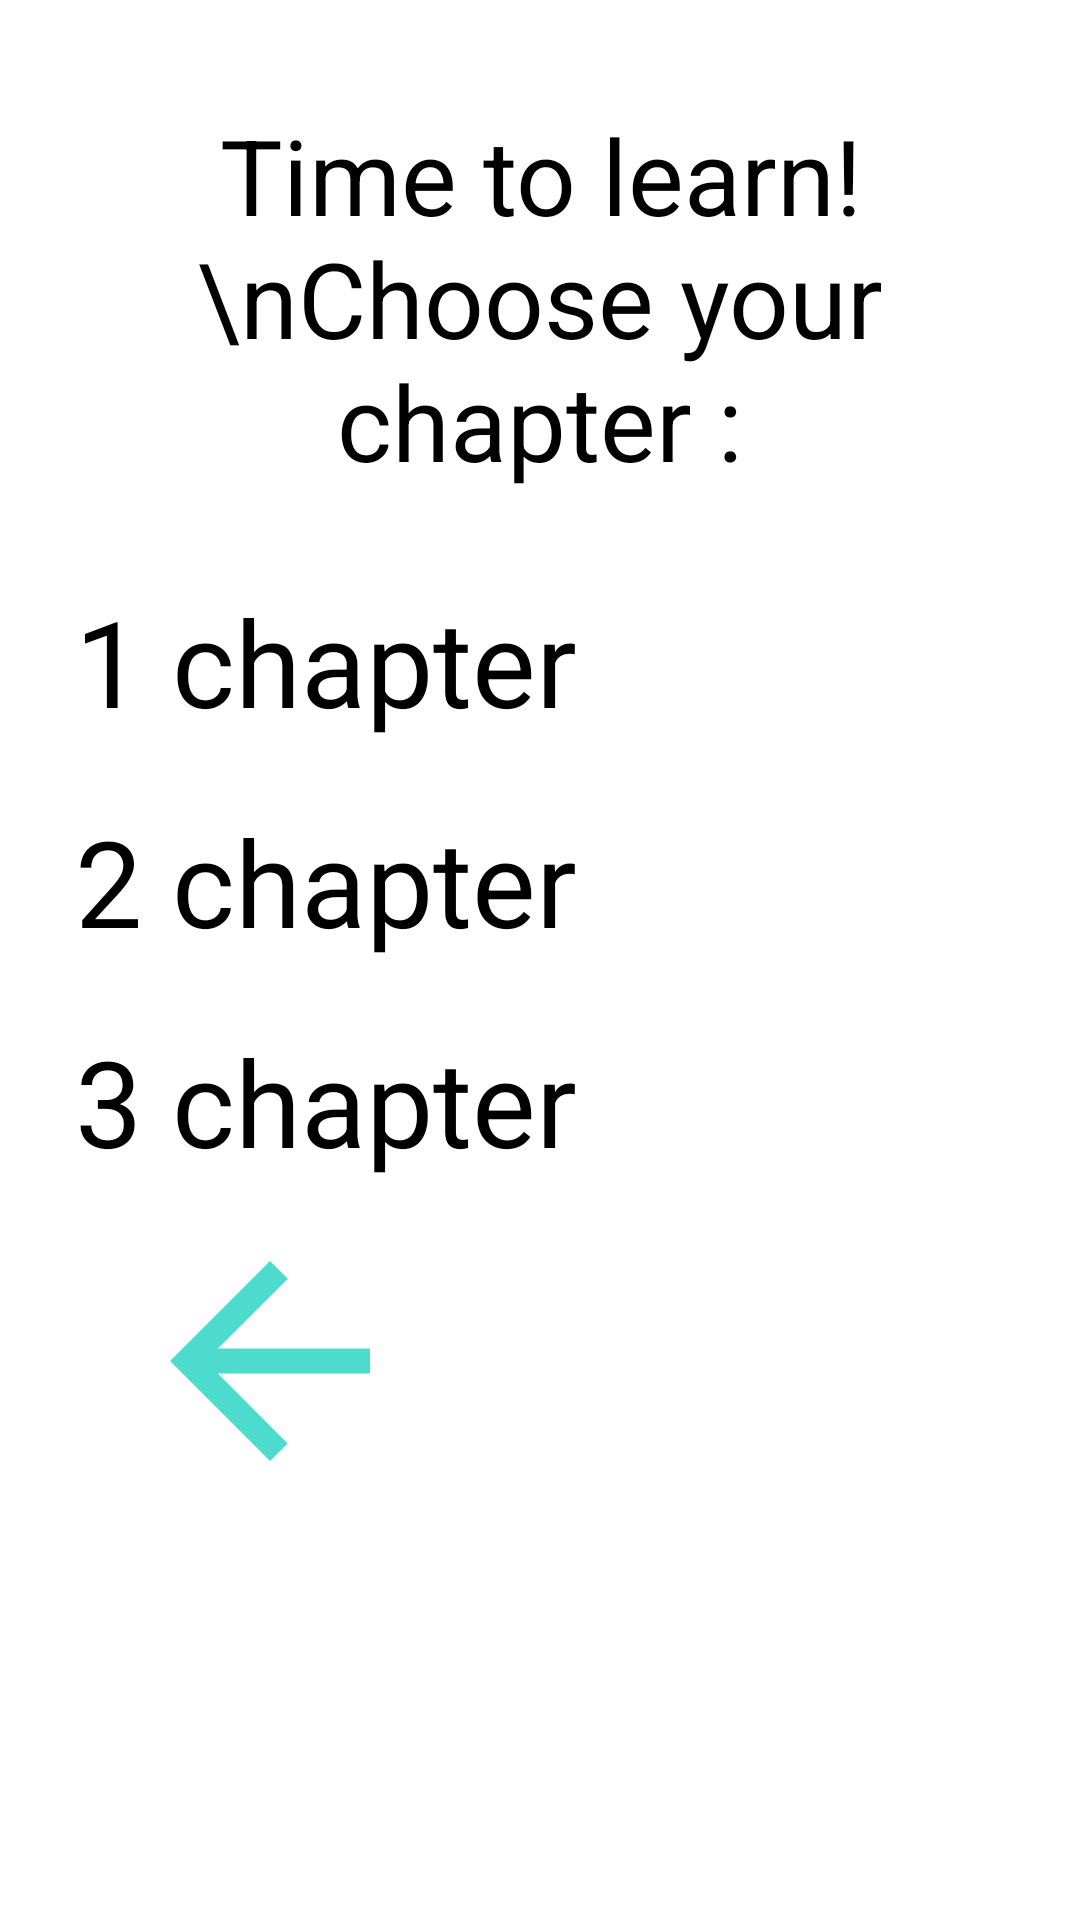

Icons on this 1080*1920 Android screen, each with the point to tap as (x,y):
arrow back: (270,1361)
